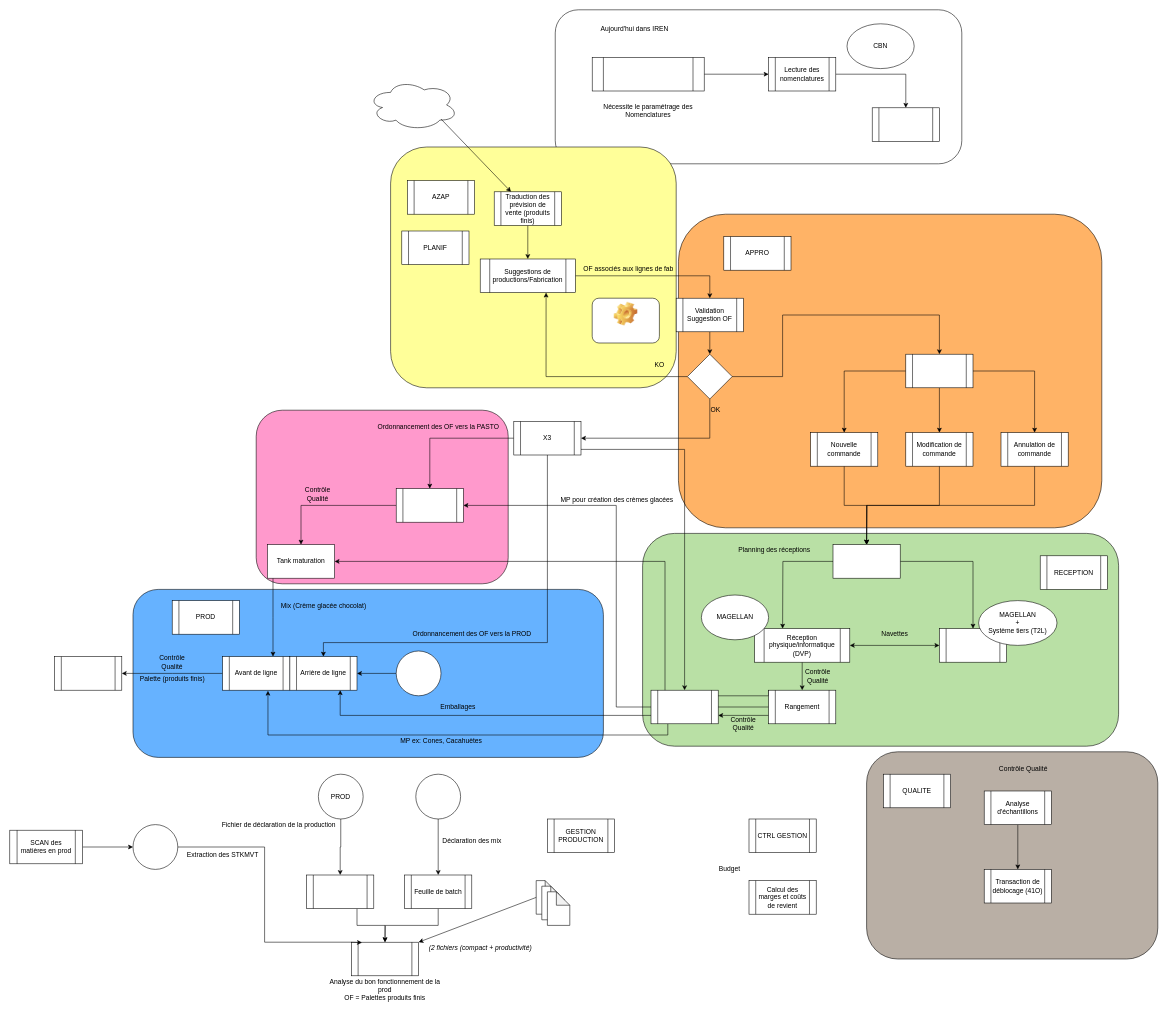
Some shapes in this 1168 by 1014 pixel diagram are drawn without their labels. Each missing label, with the centre of its shape:
"Analyse de la planif" belongs at point 625,320.
"Autocontrole" belongs at point 340,891.
"Calcul des besoins" belongs at point 939,371.
"Commande d'achat" belongs at point 866,561.
"Compact et productivité" belongs at point 385,959.
"EXPEDITION" belongs at point 88,673.
"IREN" belongs at point 155,846.
"PASTO" belongs at point 438,796.
"PASTO (Création des Mix)" belongs at point 429,505.
"PDP (Quantité des produits finis)" belongs at point 648,74.
"Préparation (Zone d'attente)" belongs at point 684,707.
"Prévision des ventes" belongs at point 413,104.
"Quantité de MP + EMB" belongs at point 905,124.
"Sites extérieurs" belongs at point 973,645.
"Transit" belongs at point 418,673.
